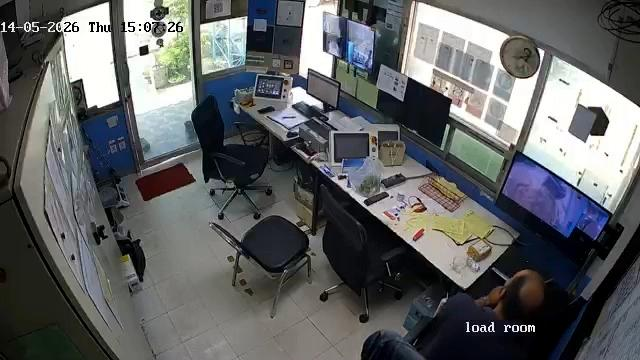Head: (501, 269, 544, 314)
People: (433, 265, 545, 360)
Phone: (257, 106, 276, 115)
